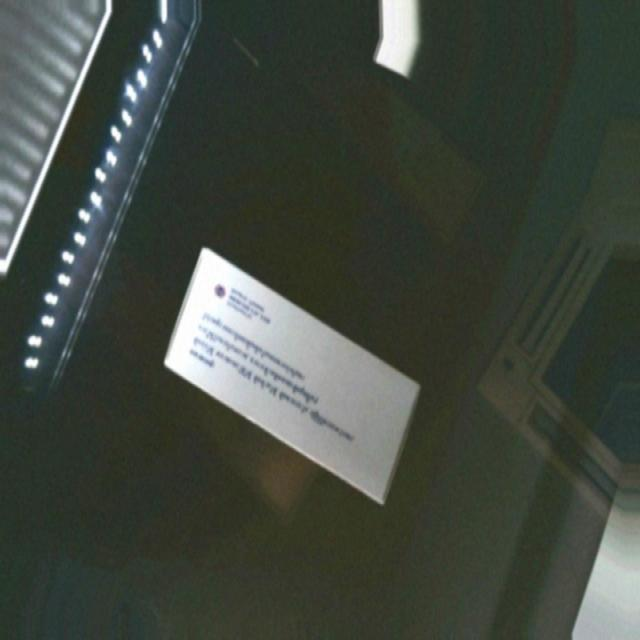sefloc: (136, 247, 447, 508)
